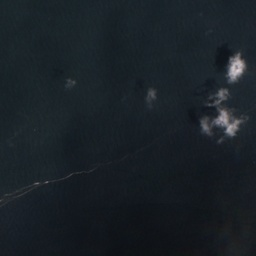Marine Debris: (0, 133, 168, 208)
